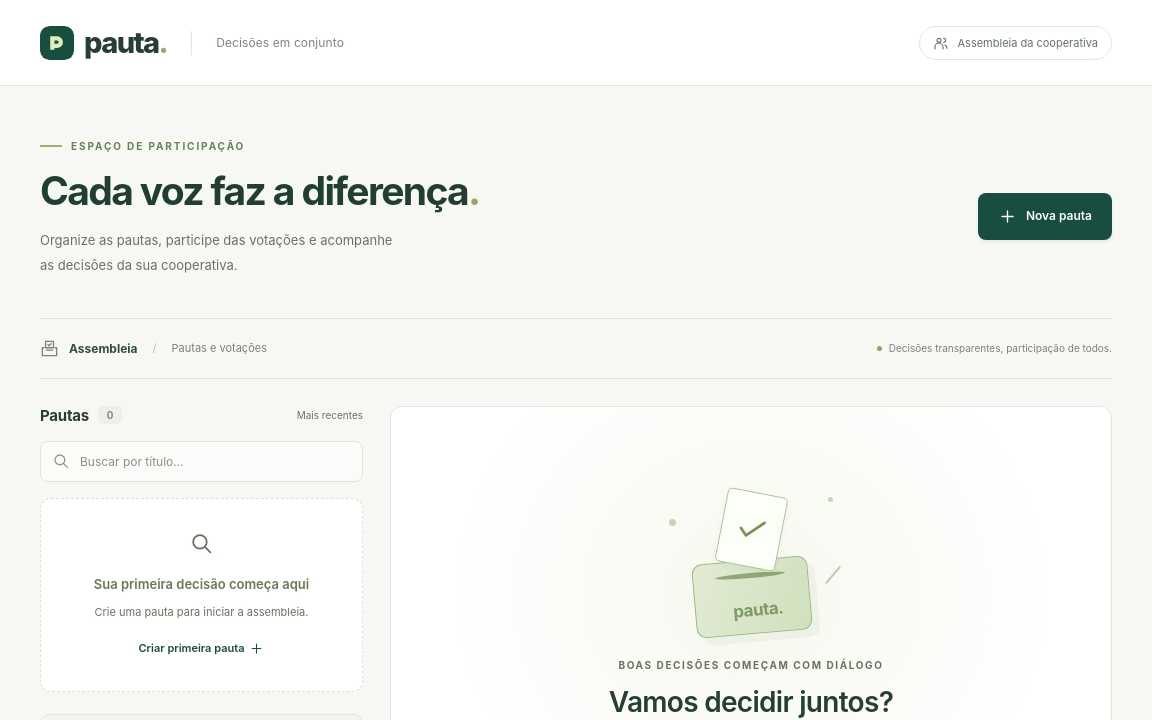
Test: fluxos da assembleia › cria uma pauta pelo formulário e apresenta o detalhe retornado pela API
Expected: the heading "Sua primeira decisão começa aqui" is shown, [94,576,309,592]
Click the button "Nova pauta".
click(1045, 216)  # box [978,193,1112,240]
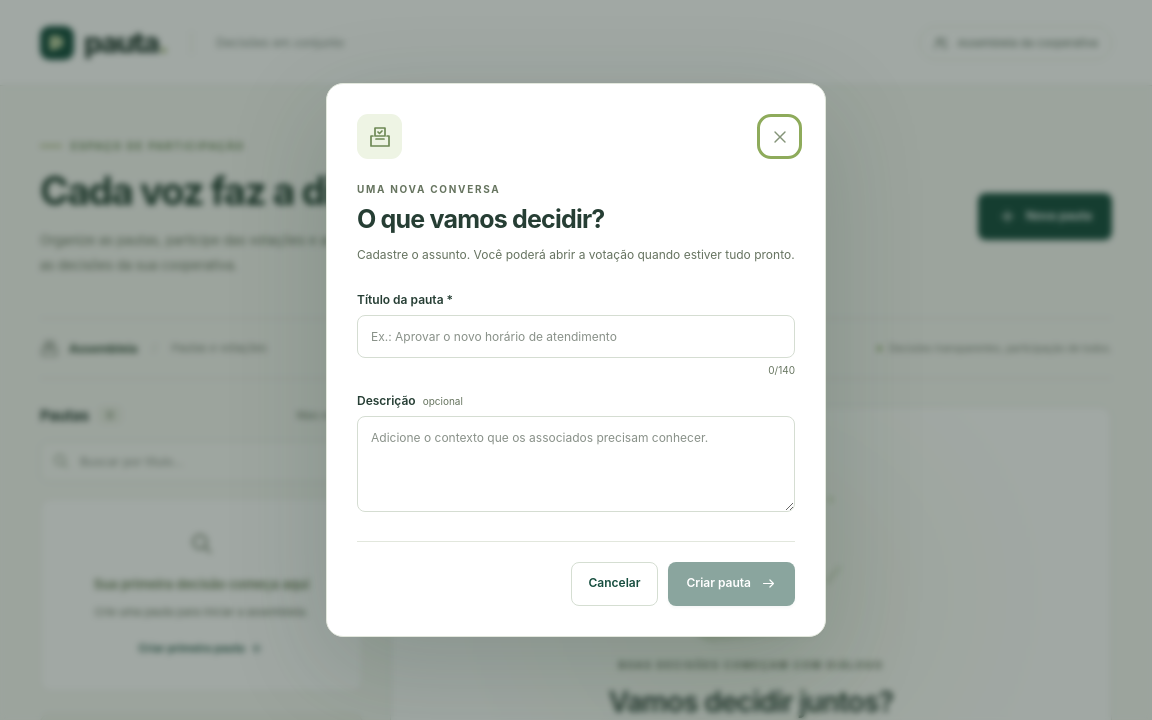
Expected: the button "Criar pauta" is disabled, [668,562,795,606]
Type "  Ampliar a biblioteca  " into the field labelled "Título da pauta *".
click(576, 336); type("  Ampliar a biblioteca  ")  # box [357,315,795,358]
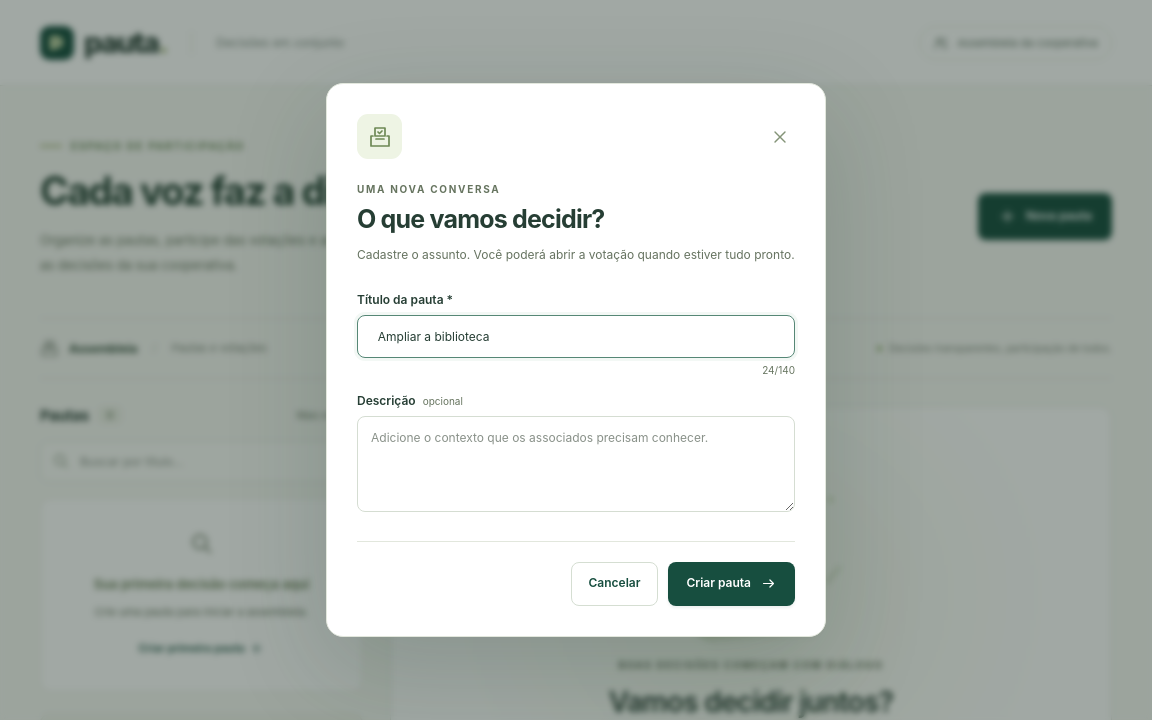
Type "Novos livros para a cooperativa." into the text box labelled "Descrição opcional".
click(576, 464); type("Novos livros para a cooperativa.")  # box [357,416,795,512]
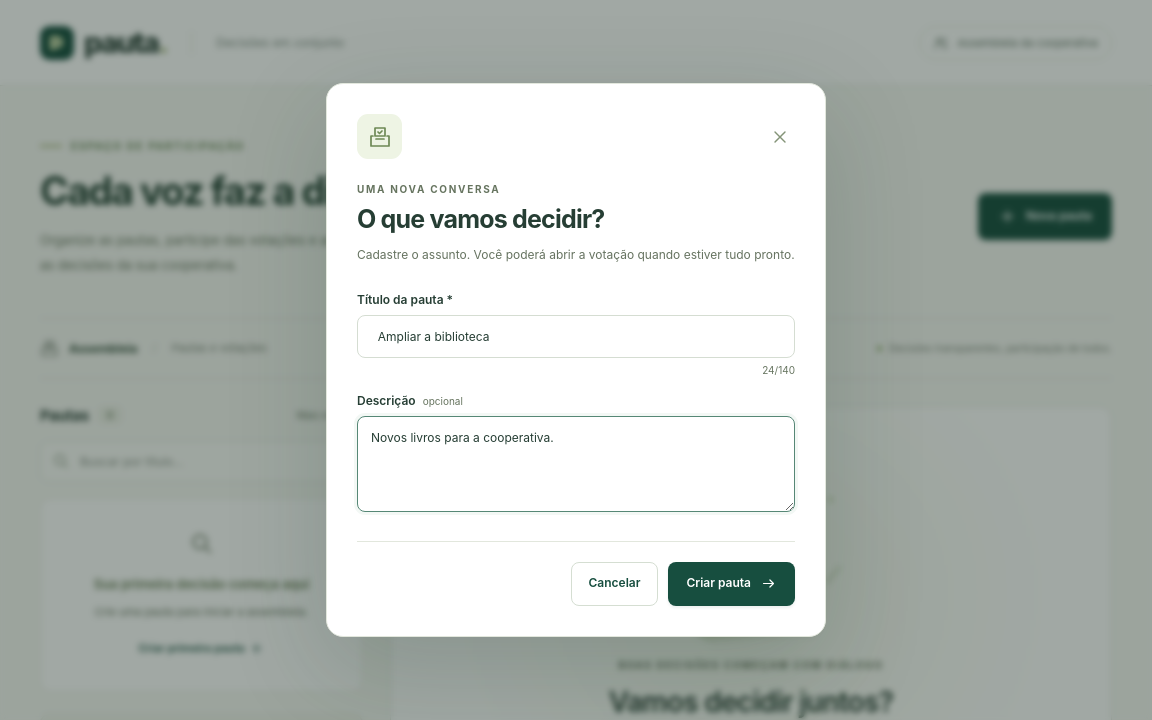
Click the button "Criar pauta".
click(732, 584)  # box [668,562,795,606]
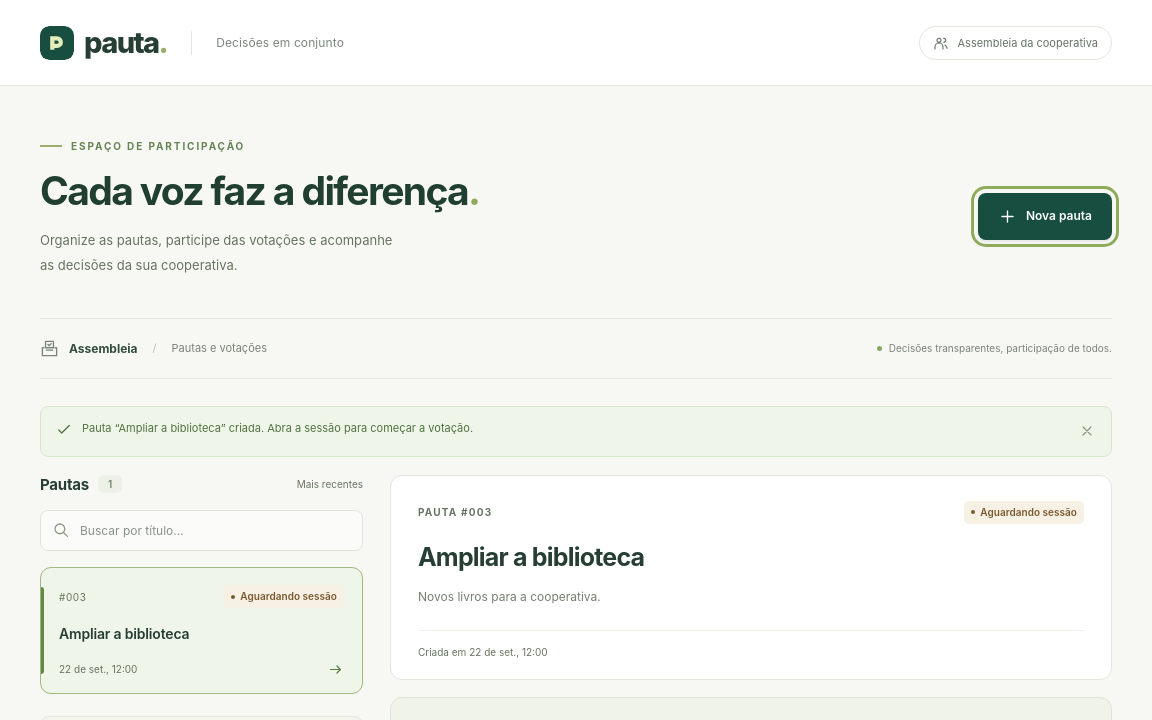
Expected: the heading "Ampliar a biblioteca" below "PAUTA #" is shown, [418,542,644,572]
Expected: the dialog is gone
